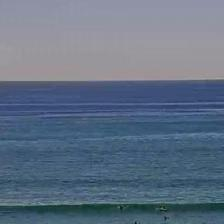surfer: (158, 206, 168, 209), (119, 205, 124, 210), (163, 216, 171, 219), (133, 221, 139, 223)
